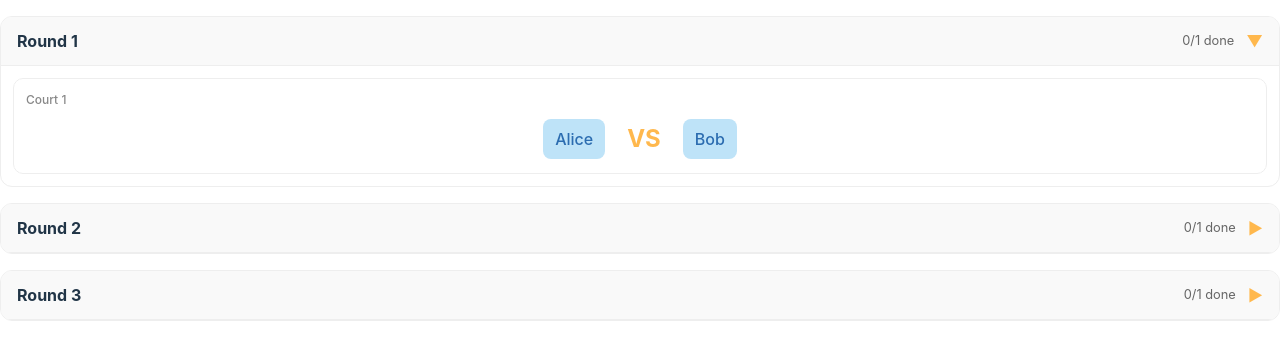
RoundRobinMatches › rendering › clicking the current round header collapses it
Expected: the element with test id "round-matches" is shown, [1,66,1279,186]
Click the element with test id "round-header-1". click: click(640, 41)
box: [1,16,1279,66]
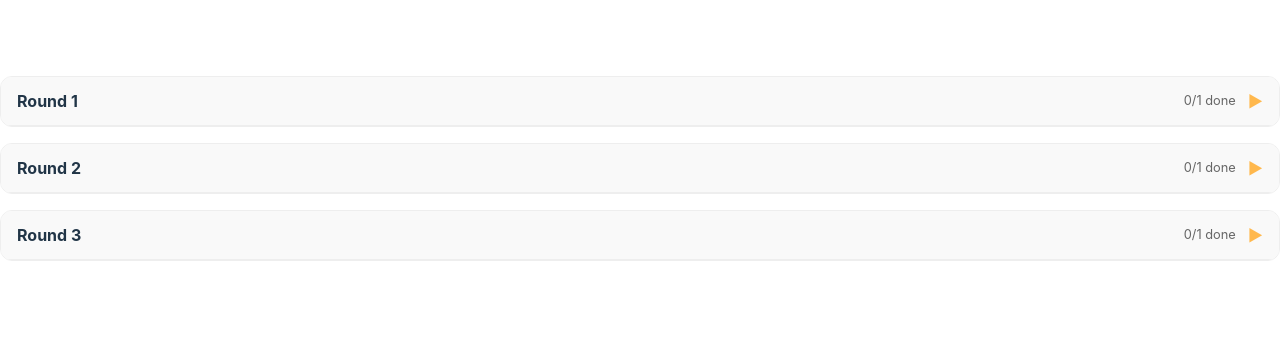
Expected: the element with test id "round-matches" is gone
